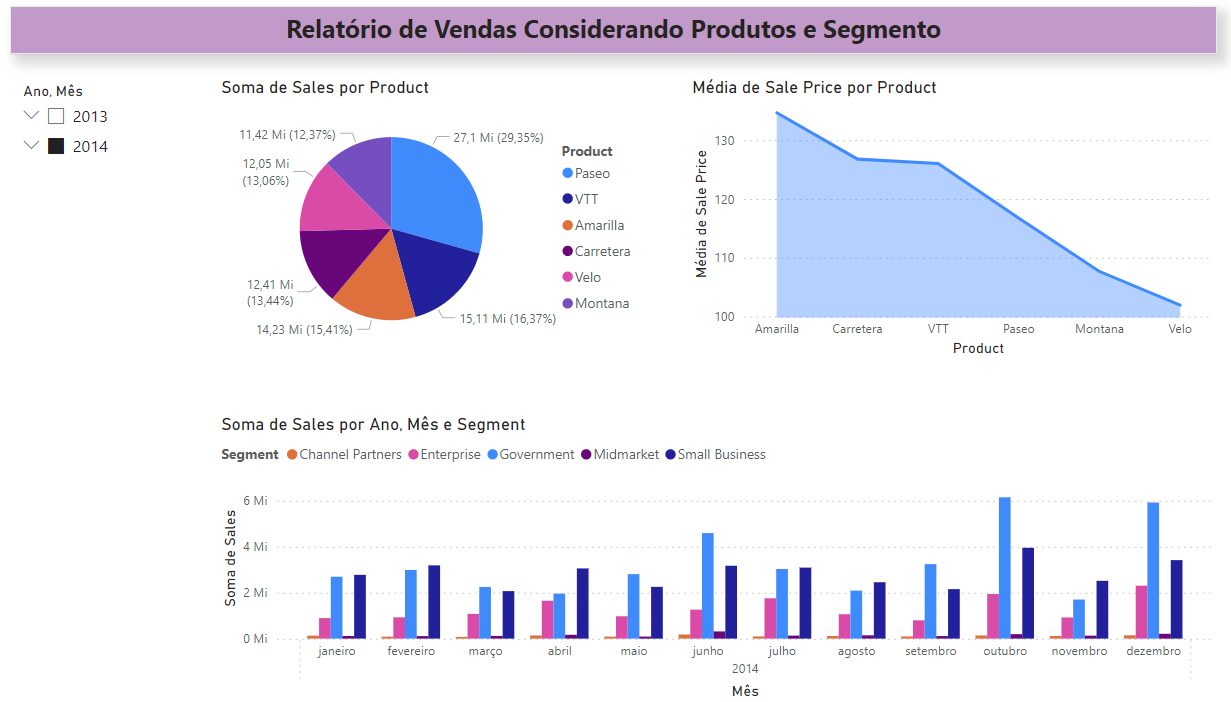

What the dashboard file says about the page in this screenshot:
{"tool":"powerbi","page":{"name":"Página 1","canvas":[1280,720],"ordinal":0},"visuals":[{"type":"textbox","box":[52.5,27.2,1174.1,46.7],"z":0},{"type":"slicer","fields":{"Values":["financials.Date.Variation.Hierarquia de datas.Ano","financials.Date.Variation.Hierarquia de datas.Mês"]},"box":[52.5,96.2,200.2,623],"z":1000},{"type":"pieChart","fields":{"Category":["financials.Product"],"Y":["Sum(financials. Sales)"]},"box":[252.7,96.2,417.9,276],"z":2000},{"type":"stackedAreaChart","fields":{"Category":["financials.Product"],"Y":["Avg(financials.Sale Price)"]},"box":[711.4,96.2,516.1,276],"z":3000},{"type":"clusteredColumnChart","fields":{"Category":["financials.Date.Variation.Hierarquia de datas.Ano","financials.Date.Variation.Hierarquia de datas.Mês"],"Y":["Sum(financials. Sales)"],"Series":["financials.Segment"]},"box":[252.7,423.8,974.8,282.8],"z":4000}]}

Visuals, with their boxes in screenshot pixels (x1, y1, x2, y2), scaled from the page's 1280x720 canvas onto the 1231x702 screenshot:
textbox: 50:27:1180:72
slicer - financials.Date.Variation.Hierarquia de datas.Ano x financials.Date.Variation.Hierarquia de datas.Mês: 50:94:243:701
pieChart - financials.Product x Sum(financials. Sales): 243:94:645:363
stackedAreaChart - financials.Product x Avg(financials.Sale Price): 684:94:1181:363
clusteredColumnChart - financials.Date.Variation.Hierarquia de datas.Ano x financials.Date.Variation.Hierarquia de datas.Mês: 243:413:1181:689
